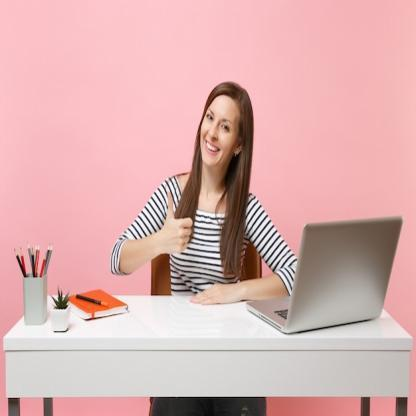thumb_up: (158, 187, 194, 259)
